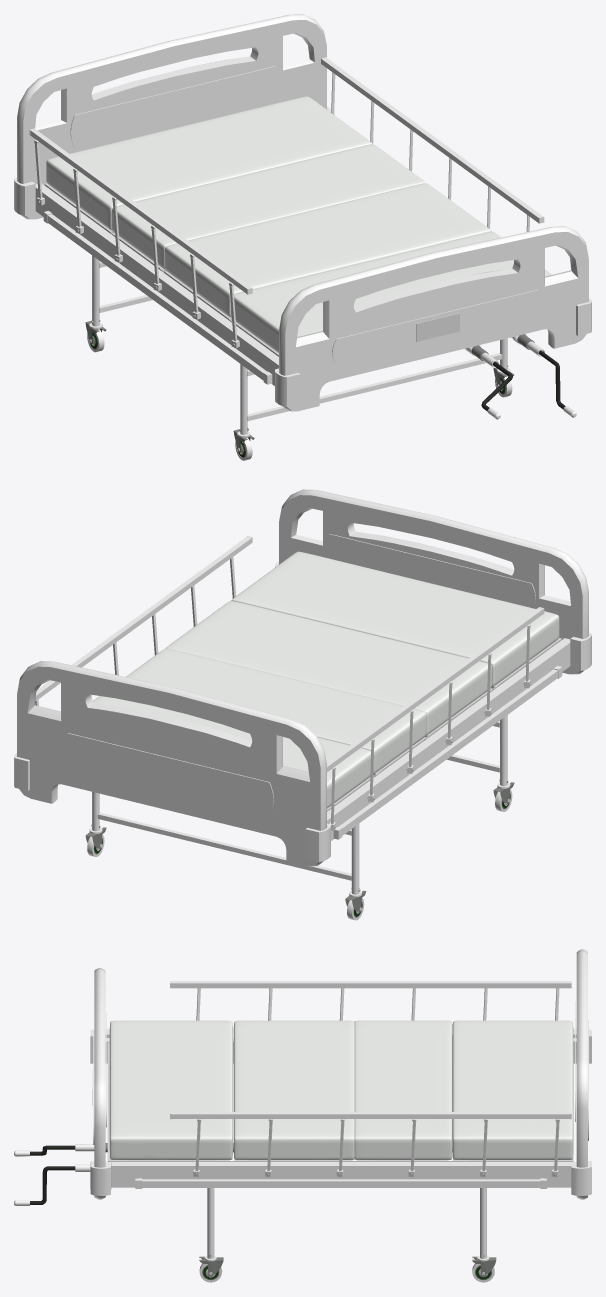
File: strecher.glb
3 views of the same model, one above another, from view 1: azimuth 30°, elevation 25°; view 2: azimuth 150°, elevation 25°; view 3: azimuth 270°, elevation 25° (orthographic). The views are drawn at different scales.
Parts seen in each view (by area): view 1: Plane, Cube.022, Plane.002, Cylinder, Cylinder.010; view 2: Plane, Cube.022, Plane.002, Cylinder.010; view 3: Cube.022, Plane, Plane.002, Cylinder.010.
Part boxes in pixels (x1,y1,x2,y2): Plane: [14, 14, 591, 460]; Cube.022: [46, 96, 552, 353]; Plane.002: [44, 183, 278, 356]; Cylinder: [48, 188, 459, 341]; Cylinder.010: [85, 320, 534, 457]; Plane: [14, 489, 591, 920]; Cube.022: [93, 551, 559, 808]; Plane.002: [327, 638, 561, 811]; Cylinder.010: [85, 781, 514, 917]; Cube.022: [109, 1020, 573, 1160]; Plane: [14, 949, 591, 1282]; Plane.002: [107, 1042, 573, 1161]; Cylinder.010: [105, 1143, 496, 1280].
Bounding box in the file's own units: 4.62 × 3.39 × 8.06.
4 materials, 4 textured.
